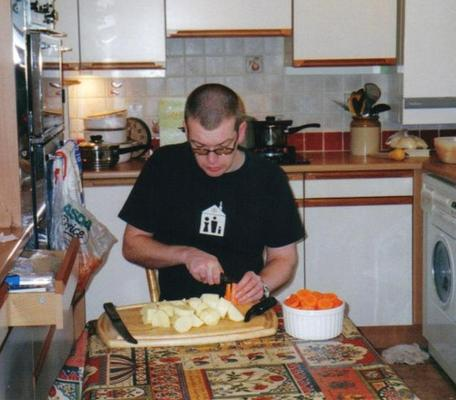person: (117, 84, 306, 304)
